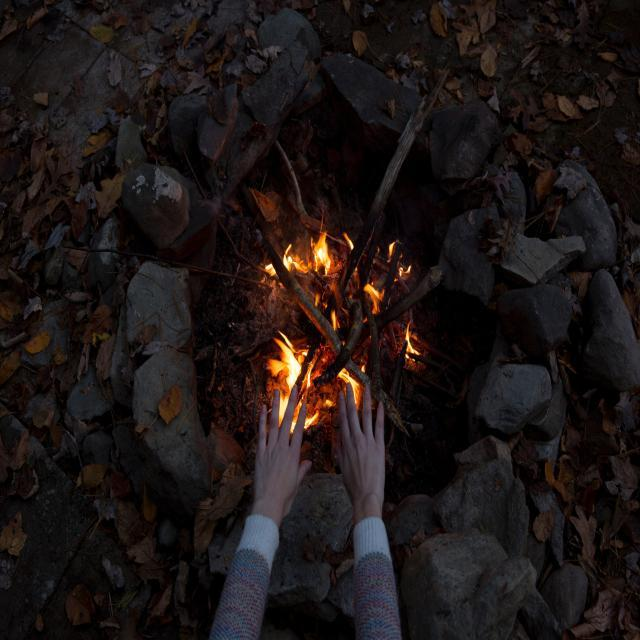Fire: (266, 232, 420, 434)
